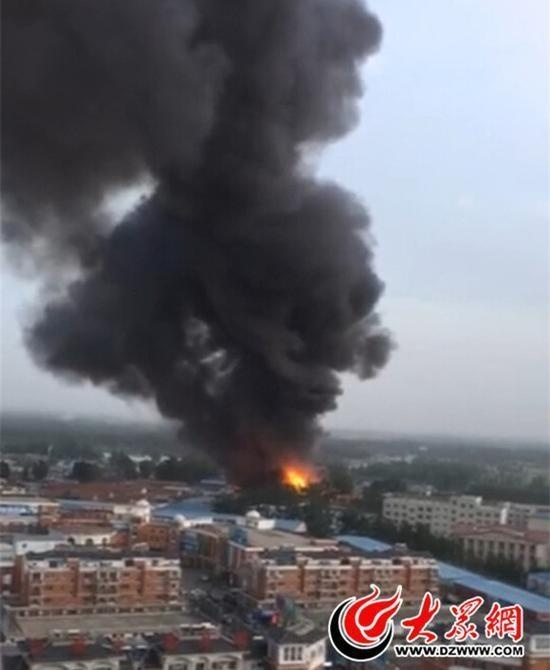fire: (280, 460, 313, 489)
